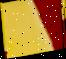scratch: (1, 0, 66, 59)
